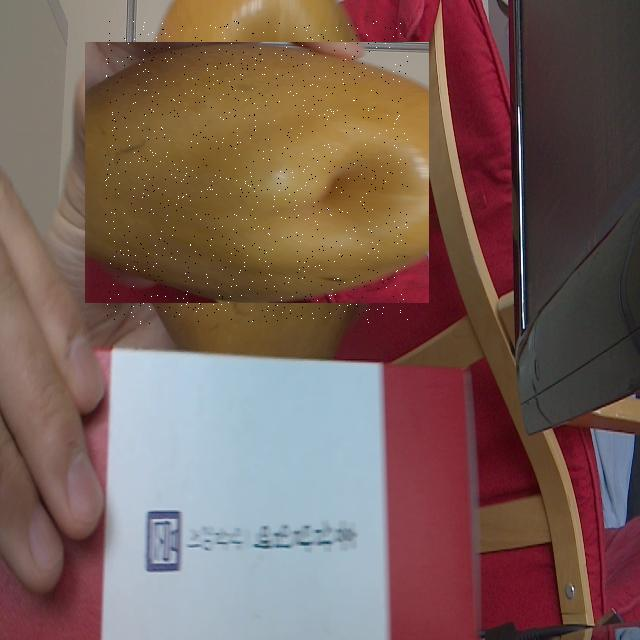pear: (105, 21, 408, 324)
